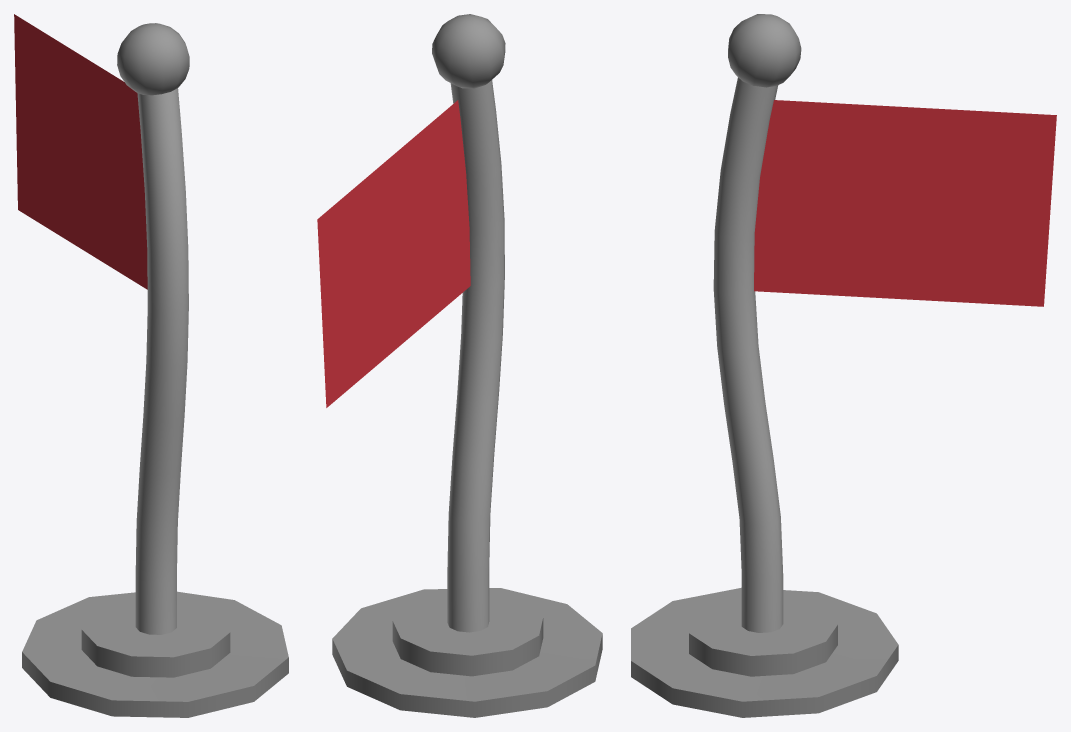
The model's file is flag.fbx.
3 views of the same model, side by side, from view 1: azimuth 30°, elevation 25°; view 2: azimuth 150°, elevation 25°; view 3: azimuth 270°, elevation 25° (orthographic).
Visible parts, largest first — view 1: Cylinder.001, Cube, Cylinder, Sphere; view 2: Cube, Cylinder.001, Cylinder, Sphere; view 3: Cube, Cylinder.001, Cylinder, Sphere.
Part boxes in pixels (box(x1,y1,x2,y2)): Cylinder.001: box(22, 591, 288, 717); Cube: box(14, 14, 147, 289); Cylinder: box(135, 88, 188, 634); Sphere: box(117, 23, 189, 95); Cube: box(317, 100, 470, 407); Cylinder.001: box(332, 588, 602, 717); Cylinder: box(447, 80, 504, 632); Sphere: box(432, 14, 505, 88); Cube: box(754, 100, 1056, 306); Cylinder.001: box(631, 587, 898, 717); Cylinder: box(713, 77, 783, 632); Sphere: box(728, 14, 801, 87).
Size of the model in its own units: 1229 by 3226 by 1936.
